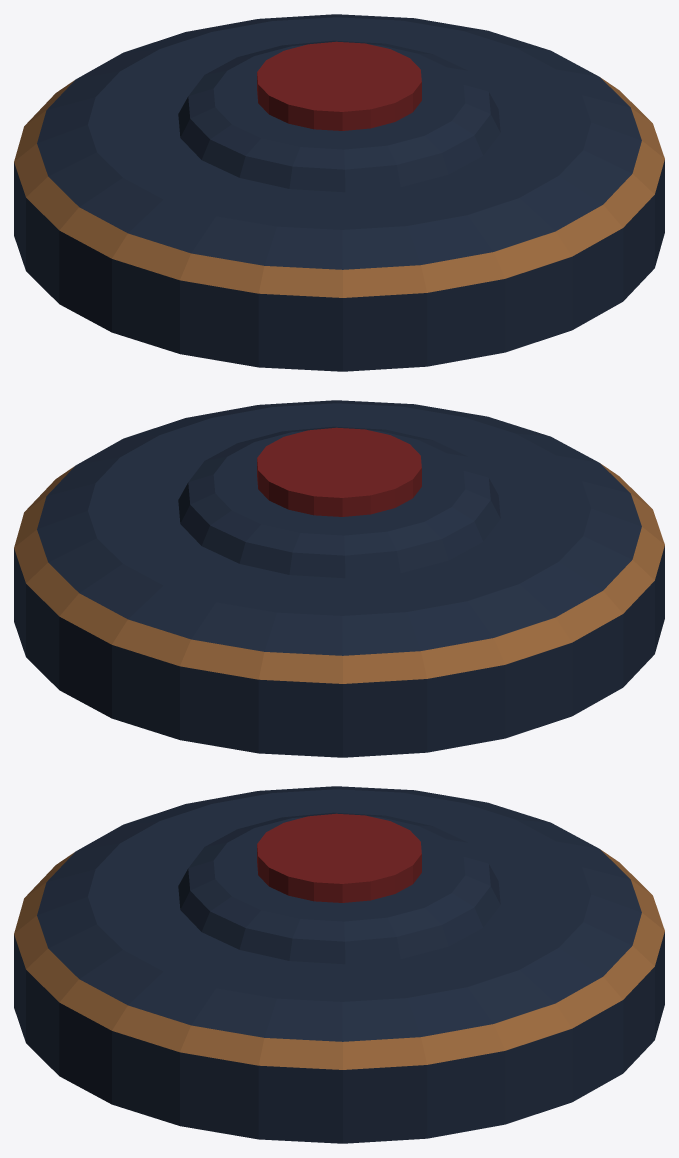
File: o2_Weapons_Mine.fbx
3 views of the same model, one above another, from view 1: azimuth 30°, elevation 25°; view 2: azimuth 150°, elevation 25°; view 3: azimuth 270°, elevation 25° (orthographic).
Parts seen in each view (by area): view 1: o2_Weapons_Mine; view 2: o2_Weapons_Mine; view 3: o2_Weapons_Mine.
Boxes of the visible parts, x1,y1,x2,y2 form: o2_Weapons_Mine: (14, 14, 664, 371); o2_Weapons_Mine: (14, 400, 664, 757); o2_Weapons_Mine: (14, 786, 664, 1143).
Size of the model in its own units: 32 by 8.53 by 32.
